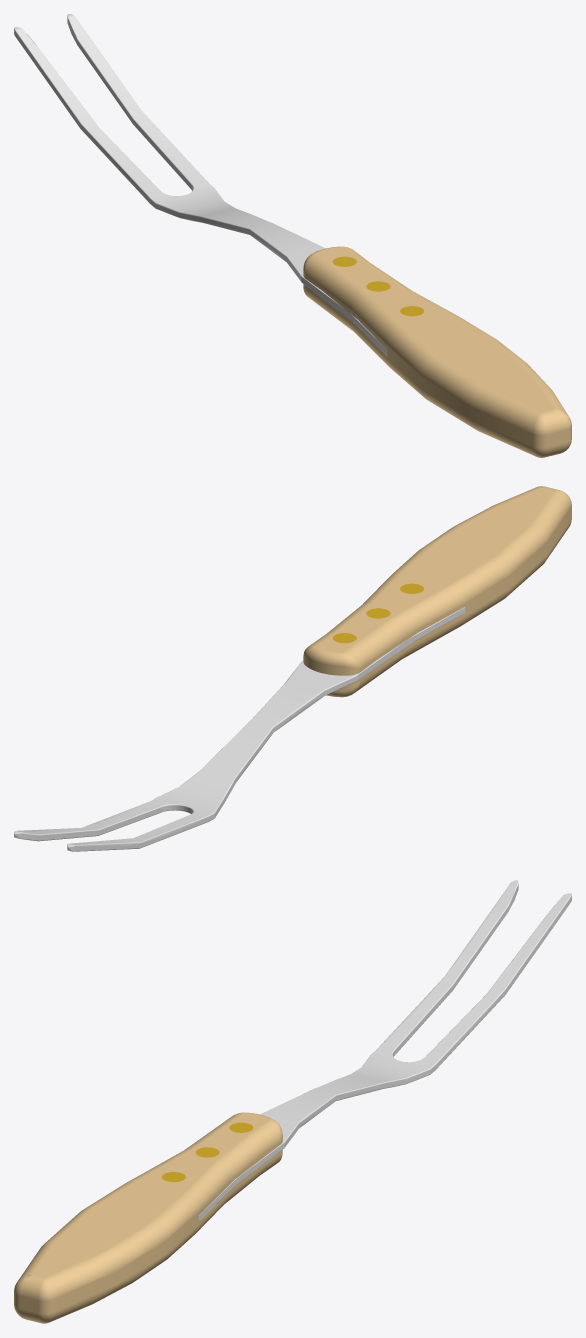
The picture shows the model from 3 angles, top to bottom: view 1: azimuth 30°, elevation 25°; view 2: azimuth 150°, elevation 25°; view 3: azimuth 330°, elevation 25°; orthographic projection.
Parts seen in each view (by area): view 1: Cabo_Garfo, Garfo; view 2: Cabo_Garfo, Garfo; view 3: Cabo_Garfo, Garfo.
Boxes of the visible parts, <box> form: Cabo_Garfo: <box>303,246,571,457</box>; Garfo: <box>14,14,387,355</box>; Cabo_Garfo: <box>303,486,571,697</box>; Garfo: <box>14,607,465,851</box>; Cabo_Garfo: <box>14,1112,282,1323</box>; Garfo: <box>198,880,571,1221</box>.
Size of the model in its own units: 0.0861 by 0.0717 by 0.8761.
